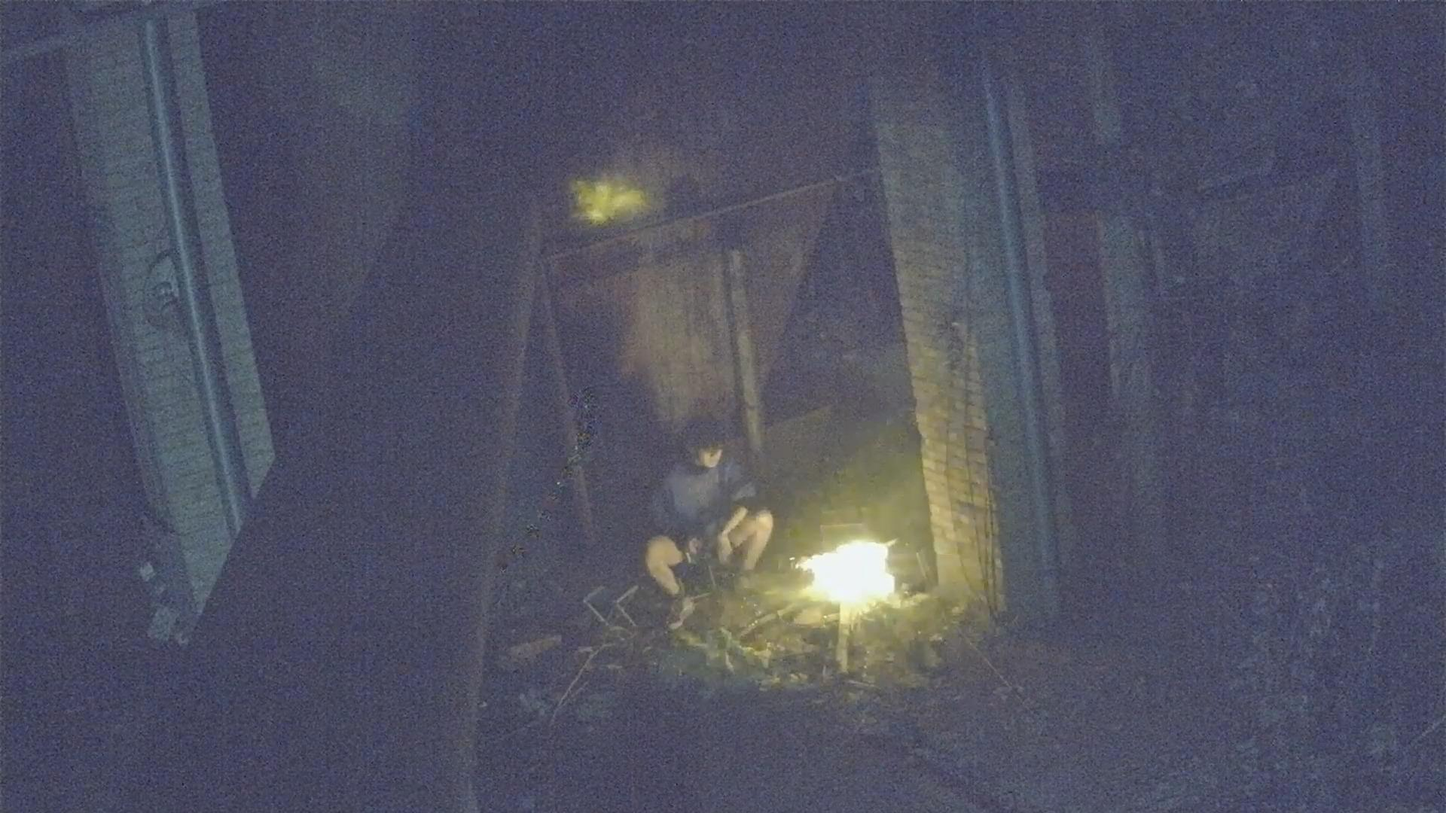fire: (802, 541, 895, 613)
